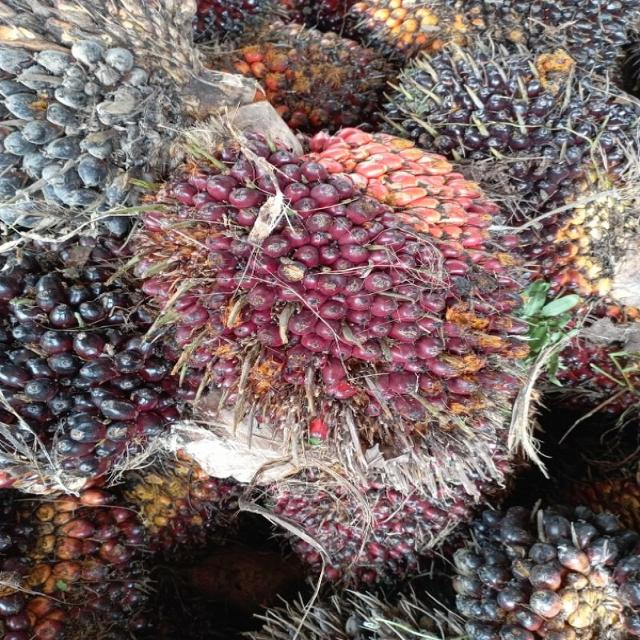fraksi 00: (373, 11, 640, 349), (0, 226, 264, 539)
fraksi 3: (81, 109, 617, 494)
